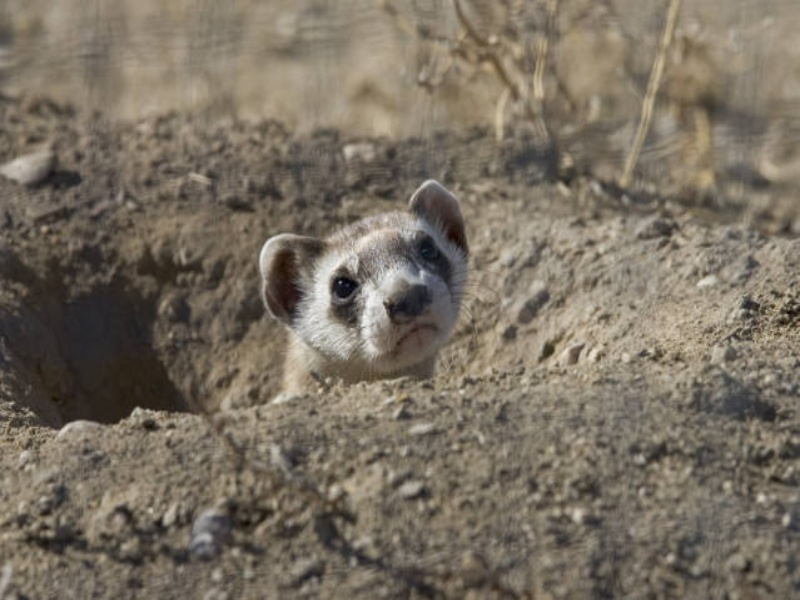minkish: (257, 173, 474, 416)
